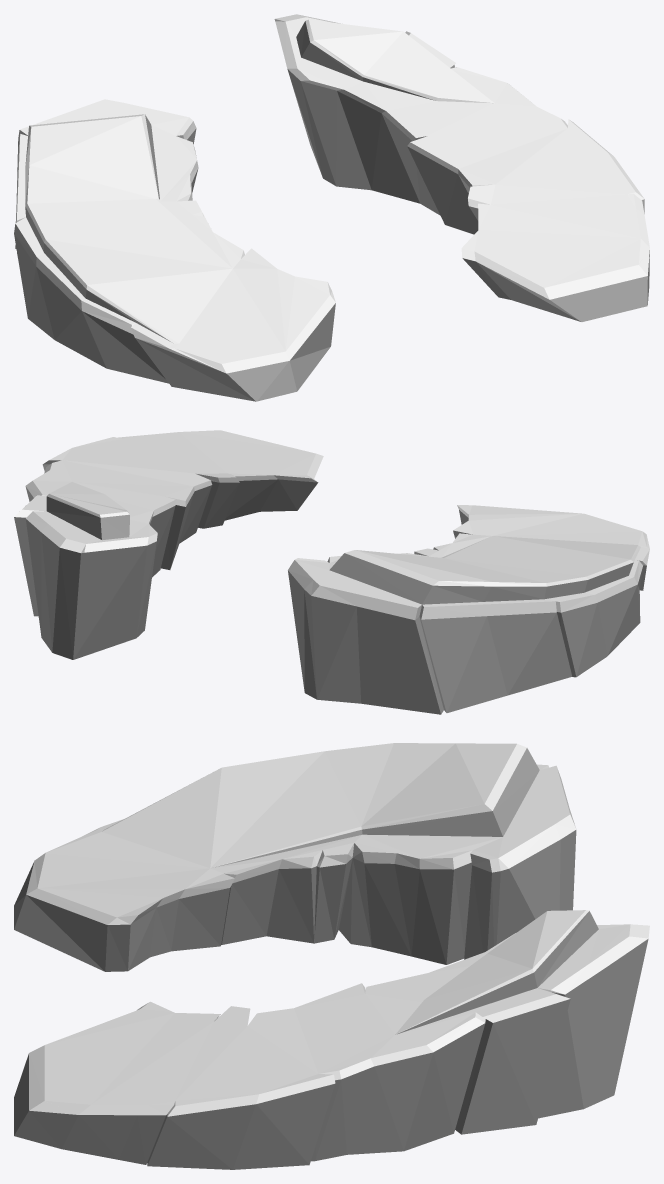
Rendered from DWE_Cliff_03A.fbx.
The picture shows the model from 3 angles, top to bottom: view 1: azimuth 30°, elevation 25°; view 2: azimuth 150°, elevation 25°; view 3: azimuth 270°, elevation 25°; orthographic projection. The views are drawn at different scales.
Visible parts, largest first — view 1: DWE_Cliff_03A; view 2: DWE_Cliff_03A; view 3: DWE_Cliff_03A.
Boxes of the visible parts, x1,y1,x2,y2 form: DWE_Cliff_03A: (14, 14, 649, 401); DWE_Cliff_03A: (14, 430, 649, 714); DWE_Cliff_03A: (14, 743, 649, 1169).
Bounding box in the file's own units: 3329 × 803 × 2760.
